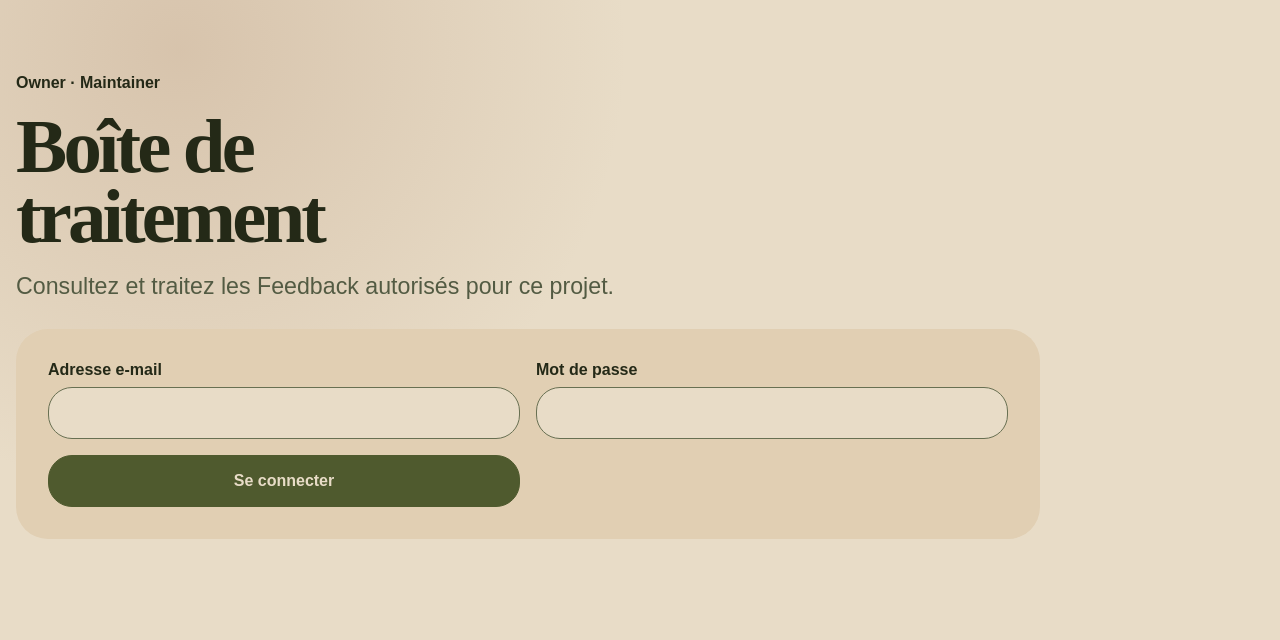
Scenario: Workbench experience › shows notification retry and empty states without hiding the inbox
Type "owner@example.test" into the field labelled "Adresse e-mail" at (284, 413), box 48,387 -> 520,439
Type "password" into the password field labelled "Mot de passe" at (772, 413), box 536,387 -> 1008,439
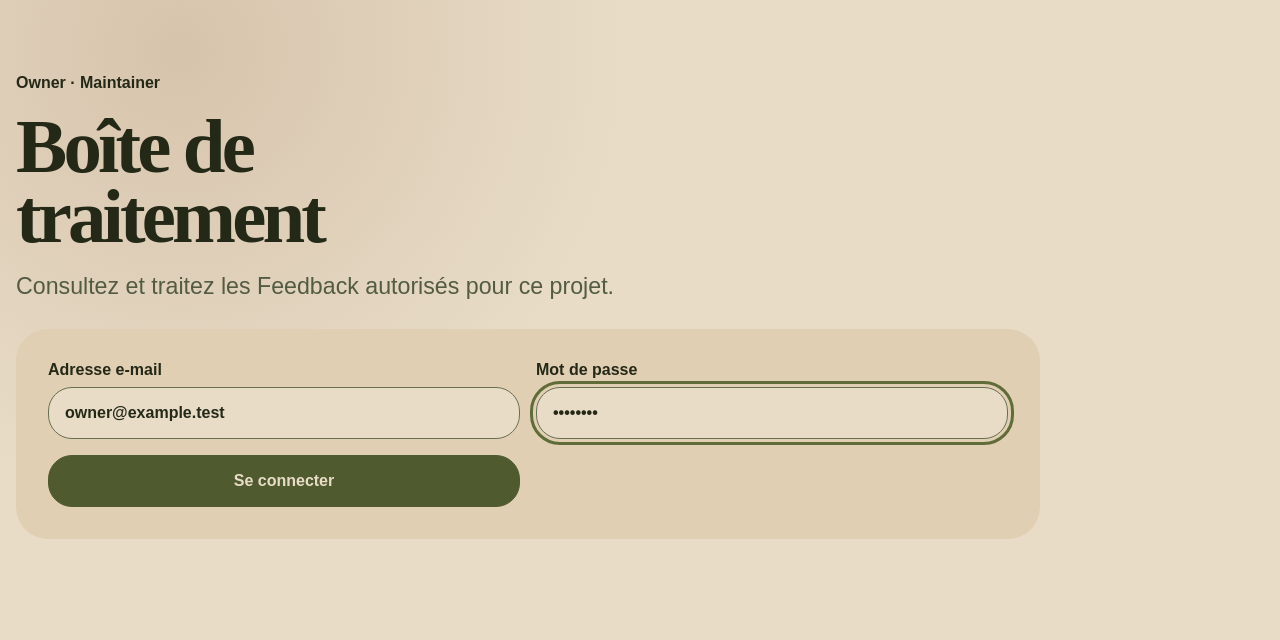
Click the button "Se connecter" at (284, 481), box 48,455 -> 520,507
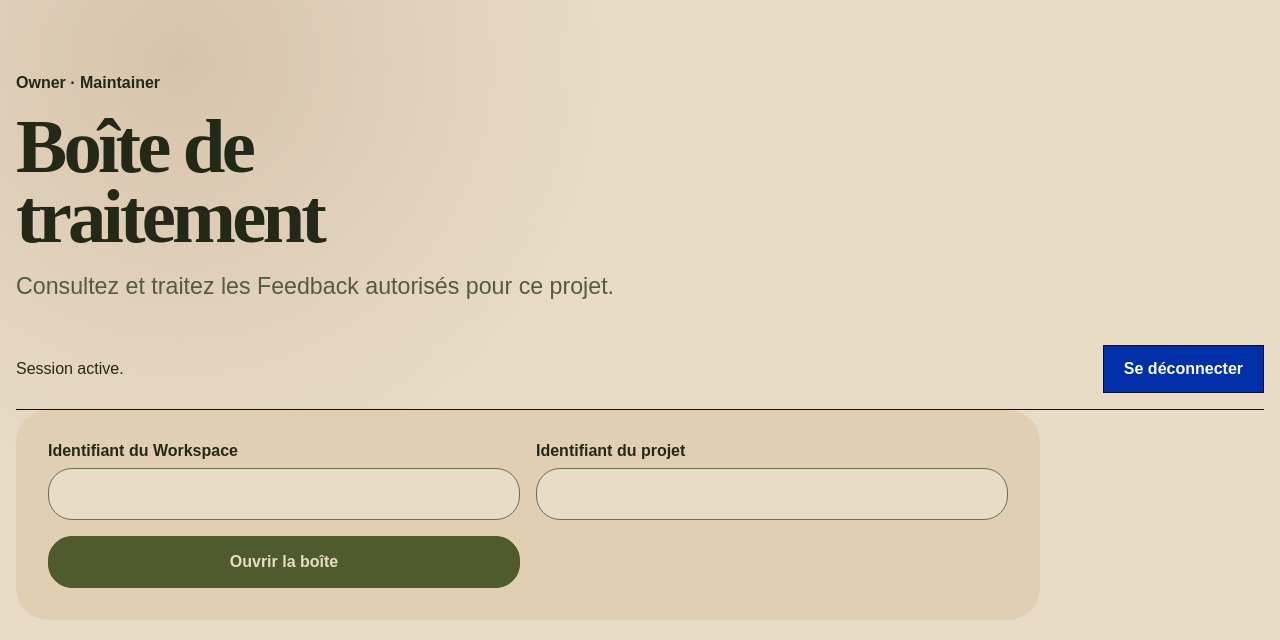
Type "workspace_1" into the field labelled "Identifiant du Workspace" at (284, 494), box 48,468 -> 520,520
Type "project_1" into the field labelled "Identifiant du projet" at (772, 494), box 536,468 -> 1008,520
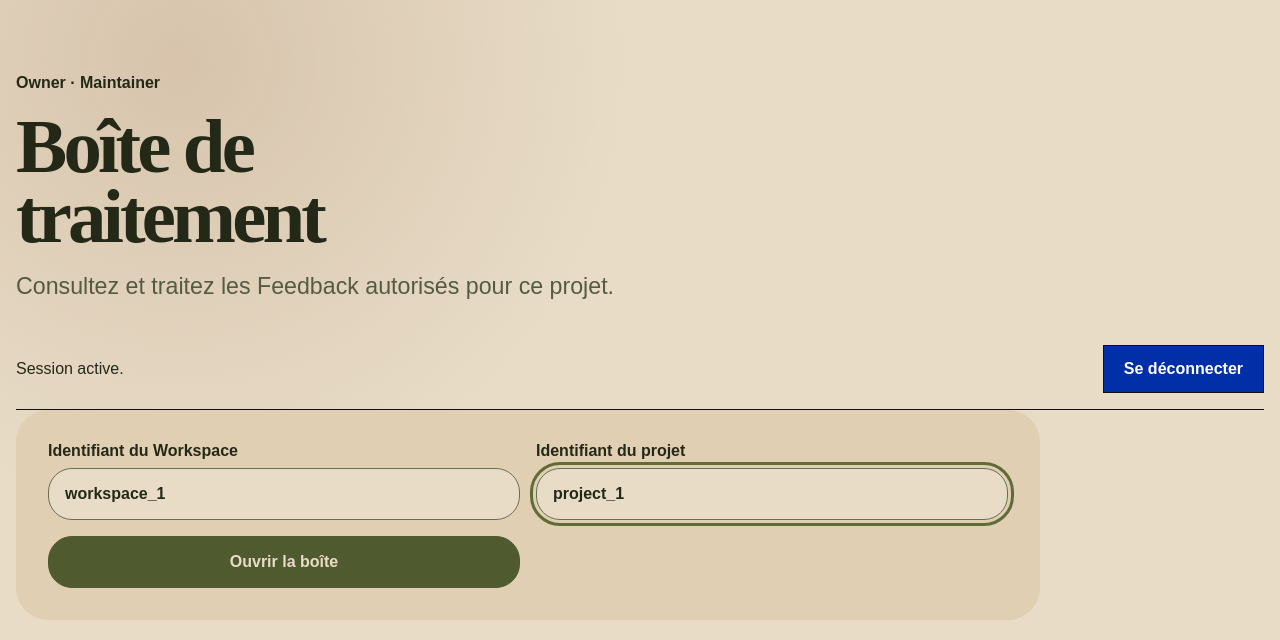
Click the button "Ouvrir la boîte" at (284, 562), box 48,536 -> 520,588
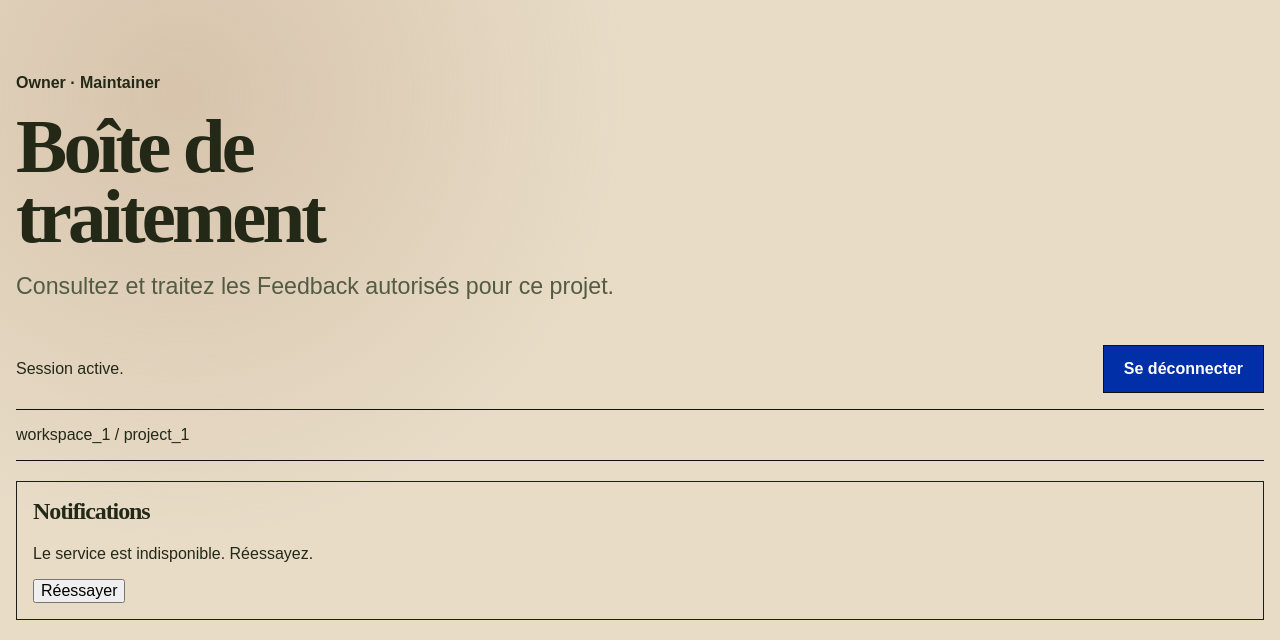
Now the text "Le service est indisponible. Réessayez." is shown, box 33,545 -> 313,562
Click the button "Réessayer" at (79, 591), box 33,579 -> 126,603
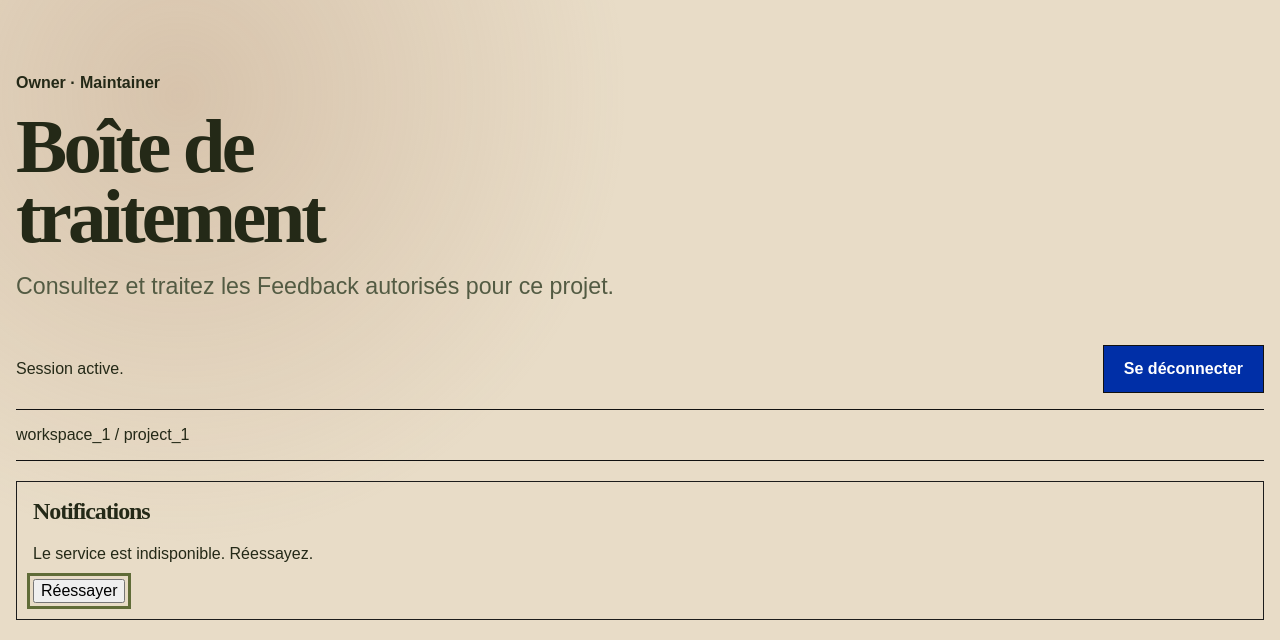
Click the button "Réessayer" at (79, 591), box 33,579 -> 126,603
(page scrolled)
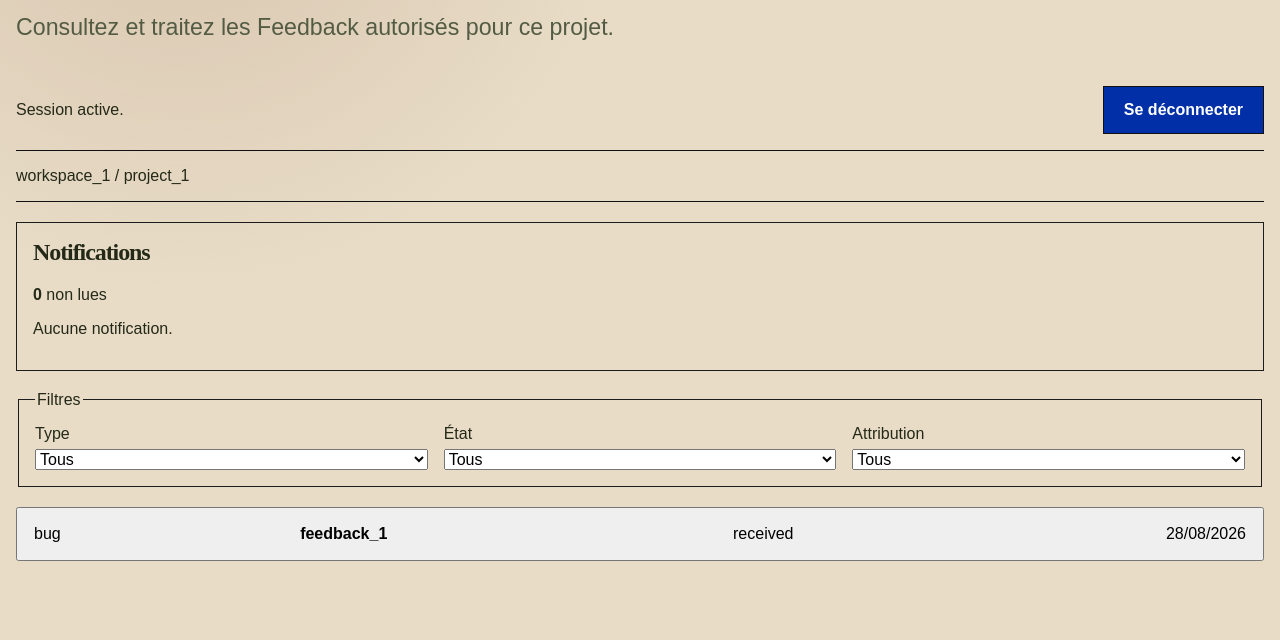
Now the text "feedback_1" is shown, box 300,525 -> 387,542
Now the text "Aucune notification." is shown, box 33,320 -> 173,337
